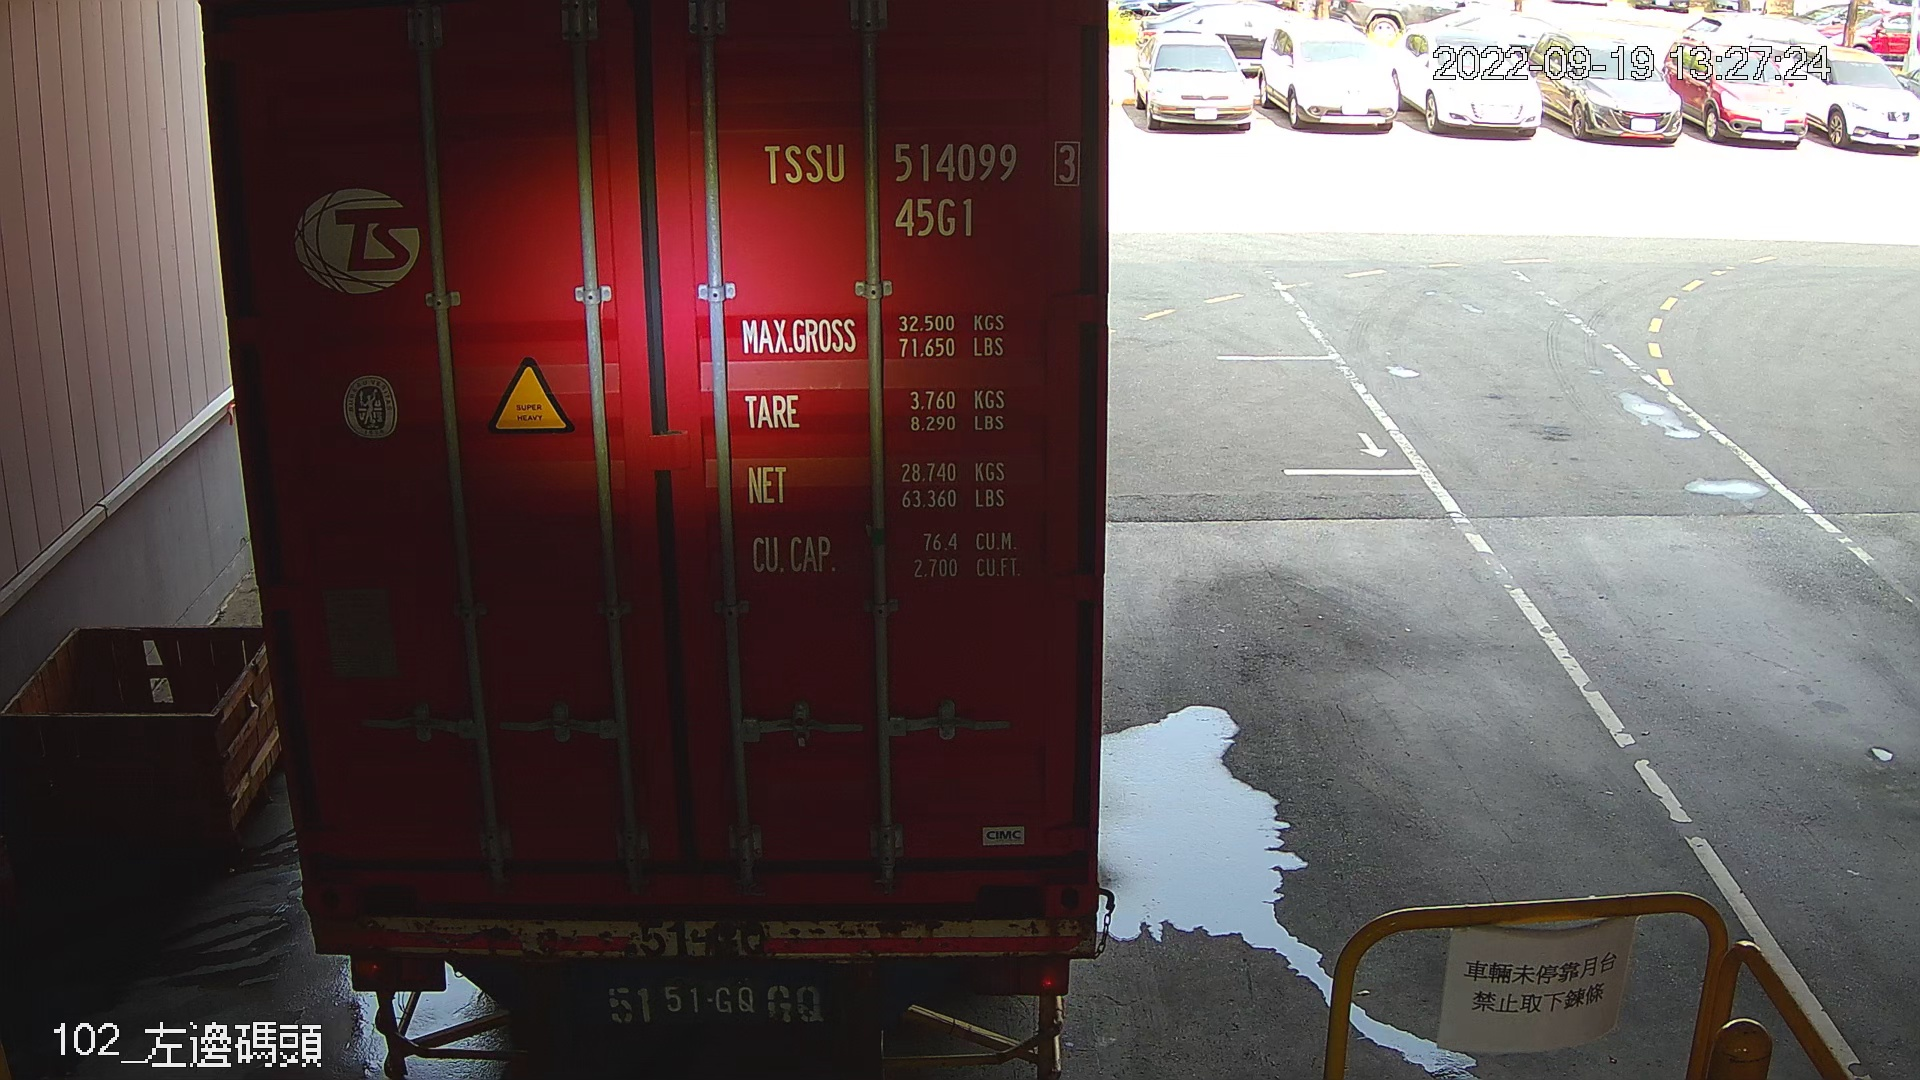container: (753, 129, 1091, 243)
